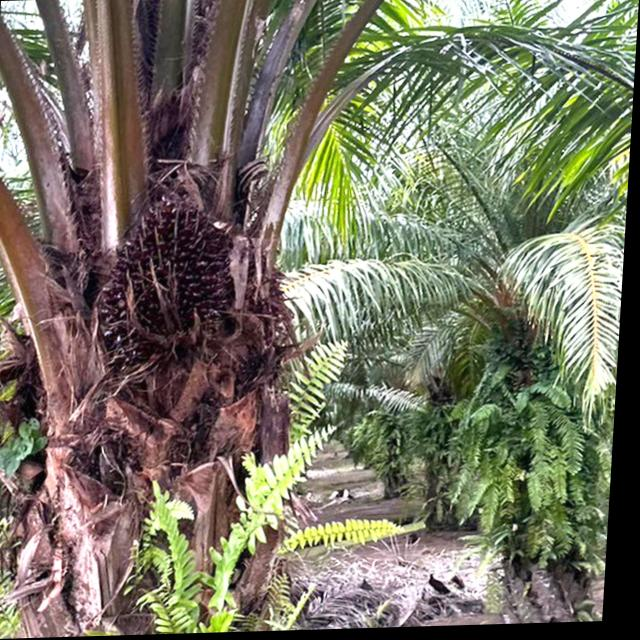ripe: (89, 182, 262, 368)
